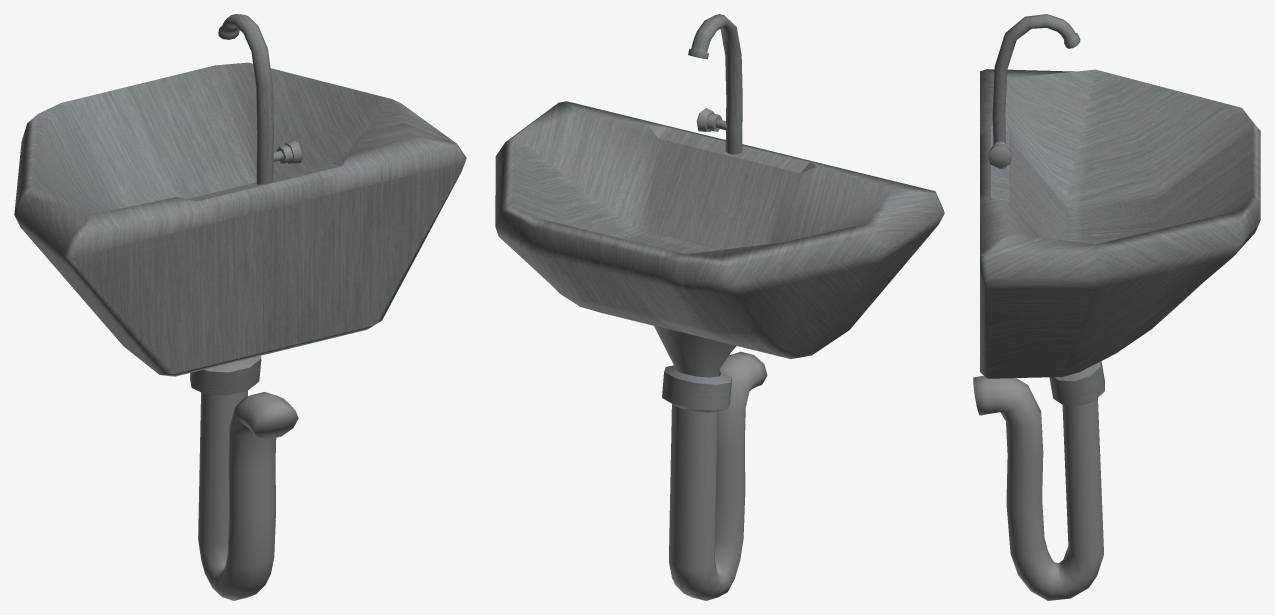
File: roomSink.fbx
3 renders of one model, left to right at view 1: azimuth 30°, elevation 25°; view 2: azimuth 150°, elevation 25°; view 3: azimuth 270°, elevation 25°, orthographic.
Parts seen in each view (by area): view 1: polySurface1; view 2: polySurface1; view 3: polySurface1.
Boxes of the visible parts, <box> form: polySurface1: <box>14,14,466,600</box>; polySurface1: <box>495,14,944,600</box>; polySurface1: <box>973,14,1260,600</box>.
Size of the model in its own units: 78.63 by 109 by 48.62.
3 materials, 1 textured.
